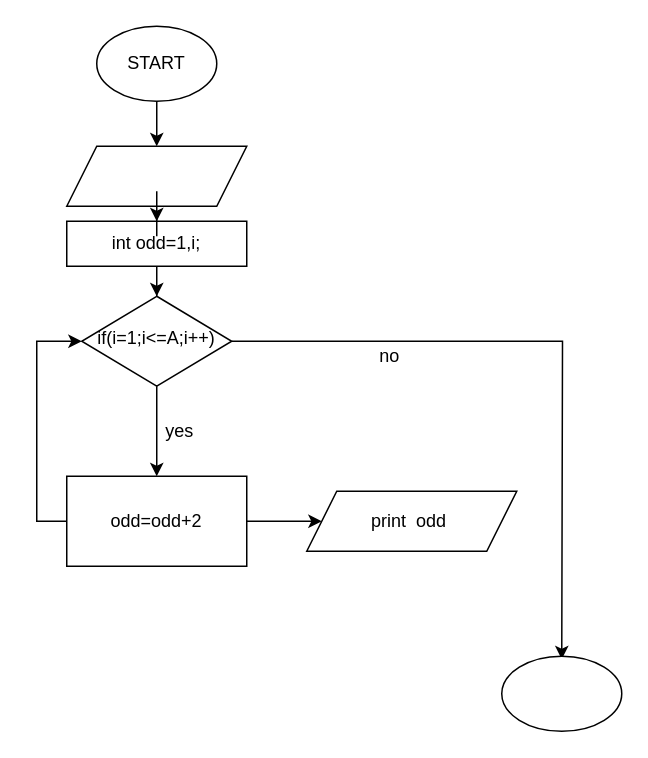
This 648x758 diagram has some shape labels left out. The centre of each missing label's shape, as x and y in pixels:
"read A" belongs at [156,175].
"STOP" belongs at [561,693].
